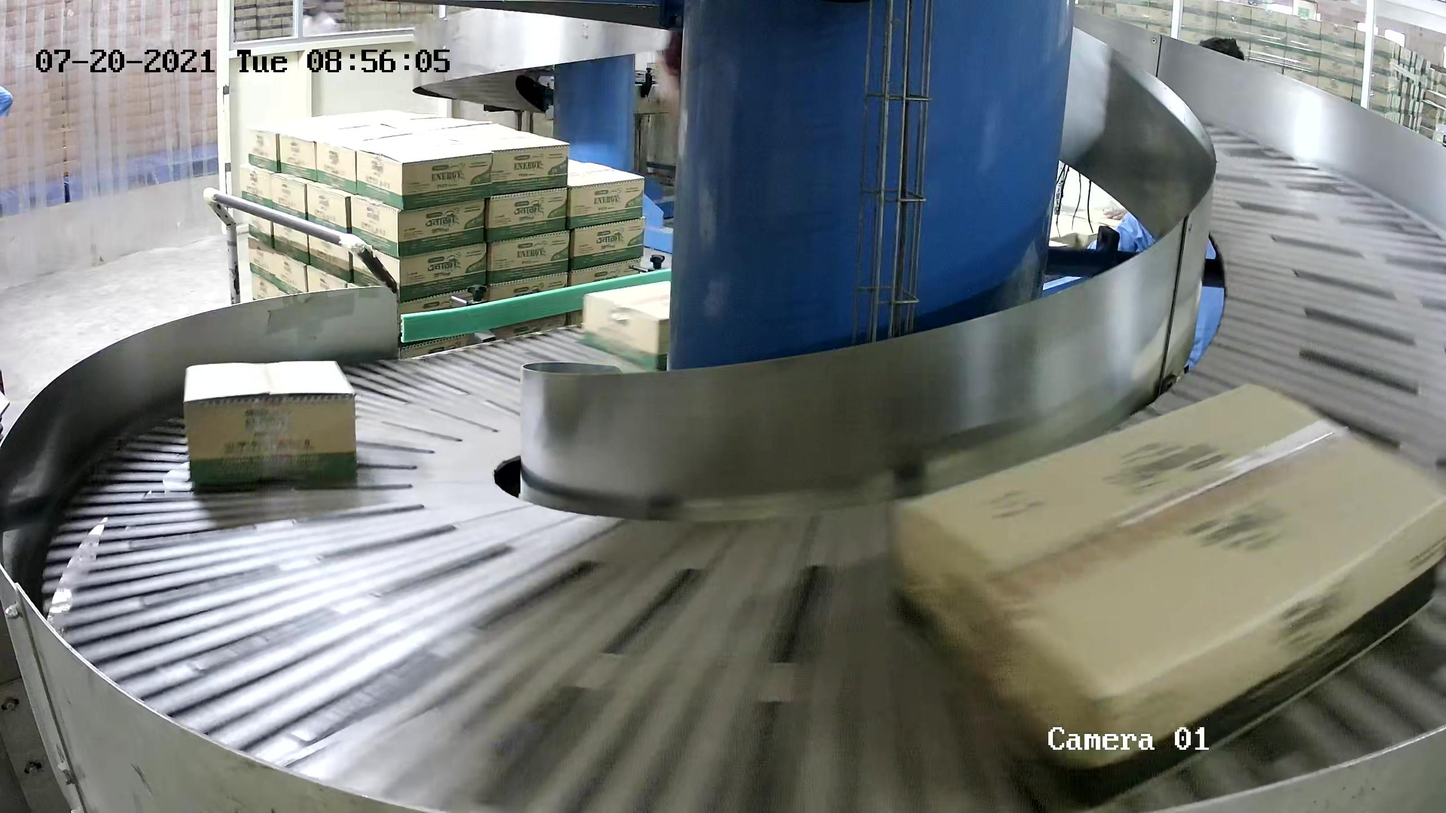Box: (882, 378, 1446, 813), (184, 359, 357, 493), (582, 281, 715, 372)
